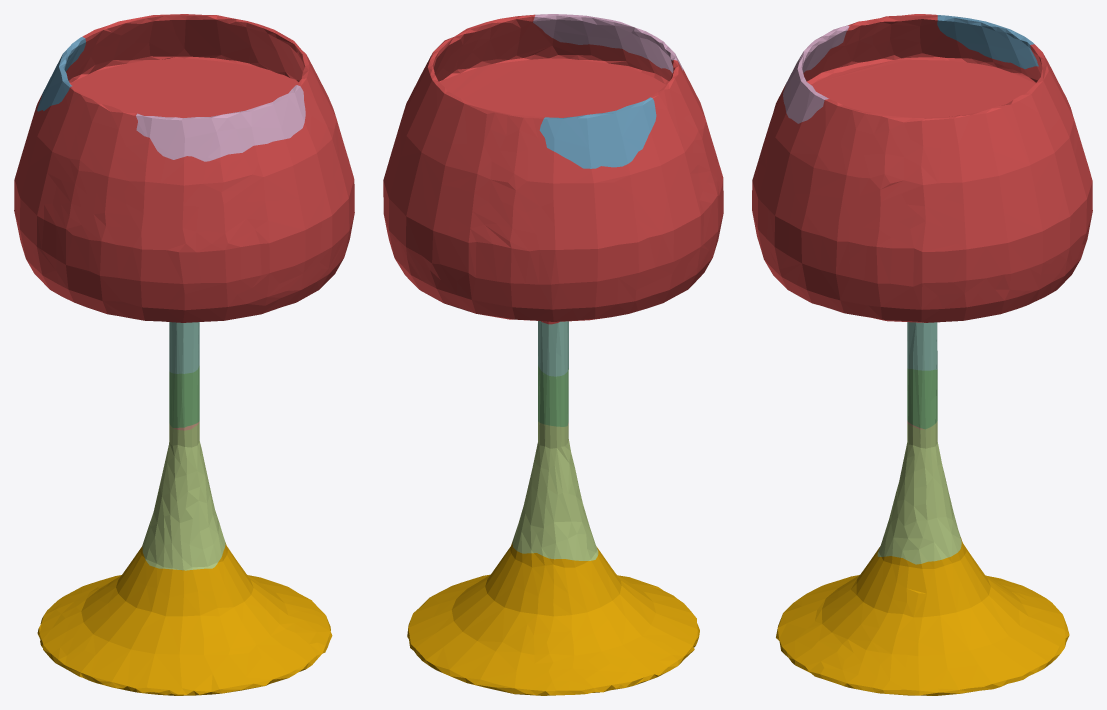
File: mode_17_8pcs.glb
3 views of the same model, side by side, from view 1: azimuth 30°, elevation 25°; view 2: azimuth 150°, elevation 25°; view 3: azimuth 270°, elevation 25° (orthographic).
Parts seen in each view (by area): view 1: piece_1.obj, piece_0.obj, piece_5.obj, piece_6.obj, piece_3.obj, piece_4.obj, piece_2.obj; view 2: piece_1.obj, piece_0.obj, piece_5.obj, piece_2.obj, piece_6.obj, piece_4.obj, piece_3.obj; view 3: piece_1.obj, piece_0.obj, piece_5.obj, piece_2.obj, piece_6.obj, piece_3.obj, piece_4.obj.
Part boxes in pixels (x1,y1,x2,y2): piece_1.obj: [14, 14, 354, 322]; piece_0.obj: [37, 543, 332, 695]; piece_5.obj: [142, 422, 225, 570]; piece_6.obj: [136, 85, 305, 161]; piece_3.obj: [169, 365, 199, 427]; piece_4.obj: [169, 322, 199, 373]; piece_2.obj: [37, 36, 85, 111]; piece_1.obj: [383, 14, 723, 324]; piece_0.obj: [407, 542, 699, 695]; piece_5.obj: [512, 421, 598, 560]; piece_2.obj: [539, 97, 656, 168]; piece_6.obj: [533, 14, 683, 73]; piece_4.obj: [538, 321, 568, 376]; piece_3.obj: [538, 365, 568, 426]; piece_1.obj: [752, 14, 1092, 322]; piece_0.obj: [776, 537, 1069, 695]; piece_5.obj: [877, 421, 961, 564]; piece_2.obj: [937, 15, 1038, 69]; piece_6.obj: [783, 25, 849, 123]; piece_3.obj: [907, 368, 937, 429]; piece_4.obj: [907, 322, 937, 370].
Size of the model in its own units: 0.5418 by 1 by 0.5419.
